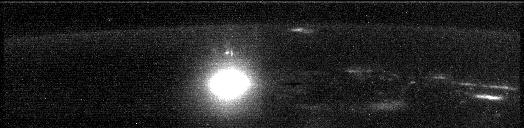positive: (220, 46, 238, 60)
